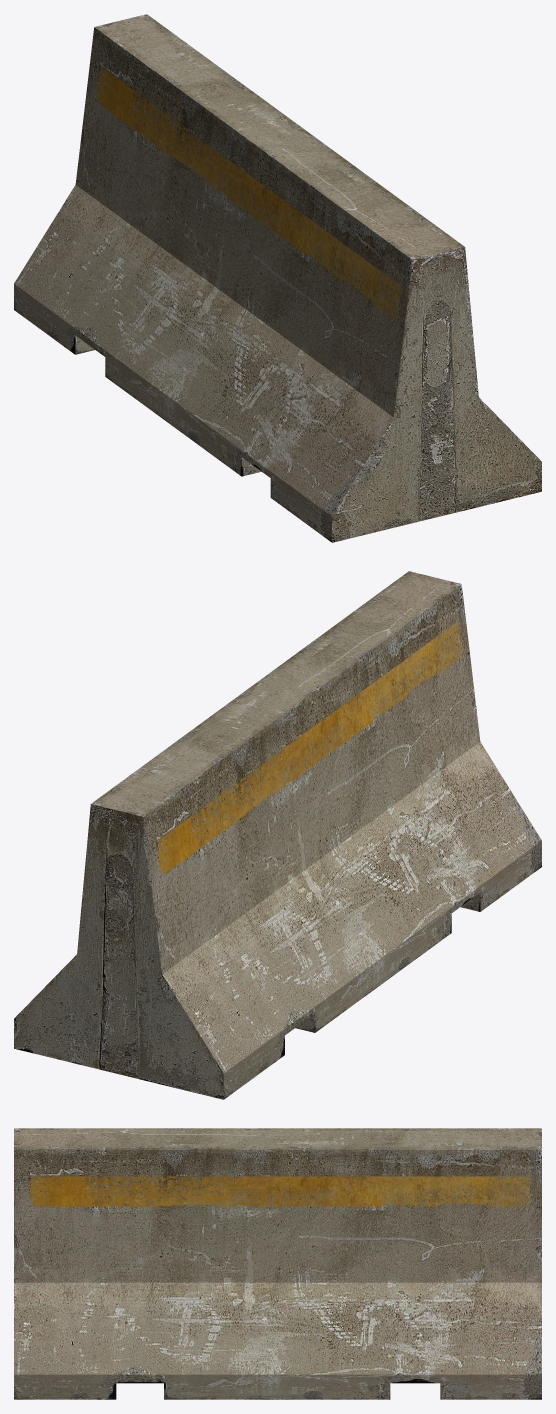
The model's file is Road_block_v1 (4).glb.
3 views of the same model, one above another, from view 1: azimuth 30°, elevation 25°; view 2: azimuth 150°, elevation 25°; view 3: azimuth 270°, elevation 25° (orthographic). The views are drawn at different scales.
Parts seen in each view (by area): view 1: Road_block_v1 (4); view 2: Road_block_v1 (4); view 3: Road_block_v1 (4).
Boxes of the visible parts, bbox=[...] form: Road_block_v1 (4): bbox=[14, 14, 541, 542]; Road_block_v1 (4): bbox=[14, 571, 541, 1099]; Road_block_v1 (4): bbox=[14, 1128, 541, 1399].
Size of the model in its own units: 0.8942 by 1.07 by 2.35.
Materials: 1 (1 with a texture image).
